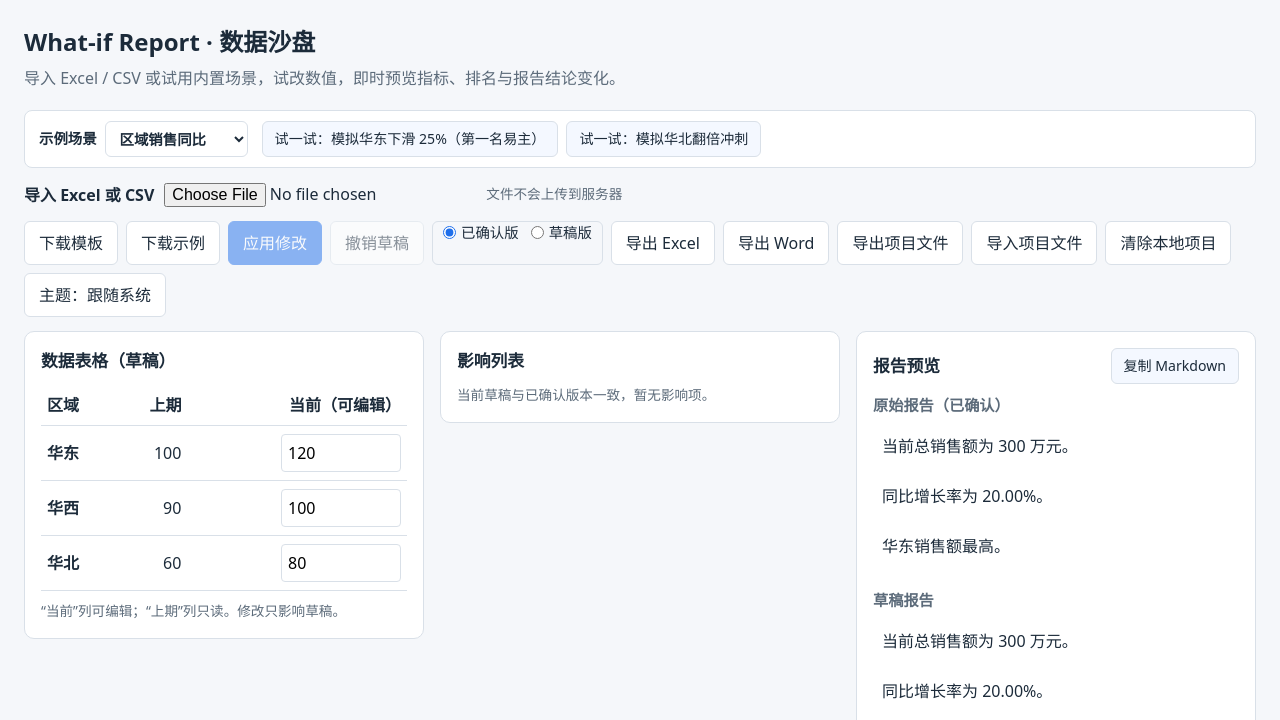
Test: DemoBar and Markdown copy › copies formatted Markdown report to the clipboard
Click the button "复制 Markdown" at (1175,366), box [1110, 348, 1239, 384]
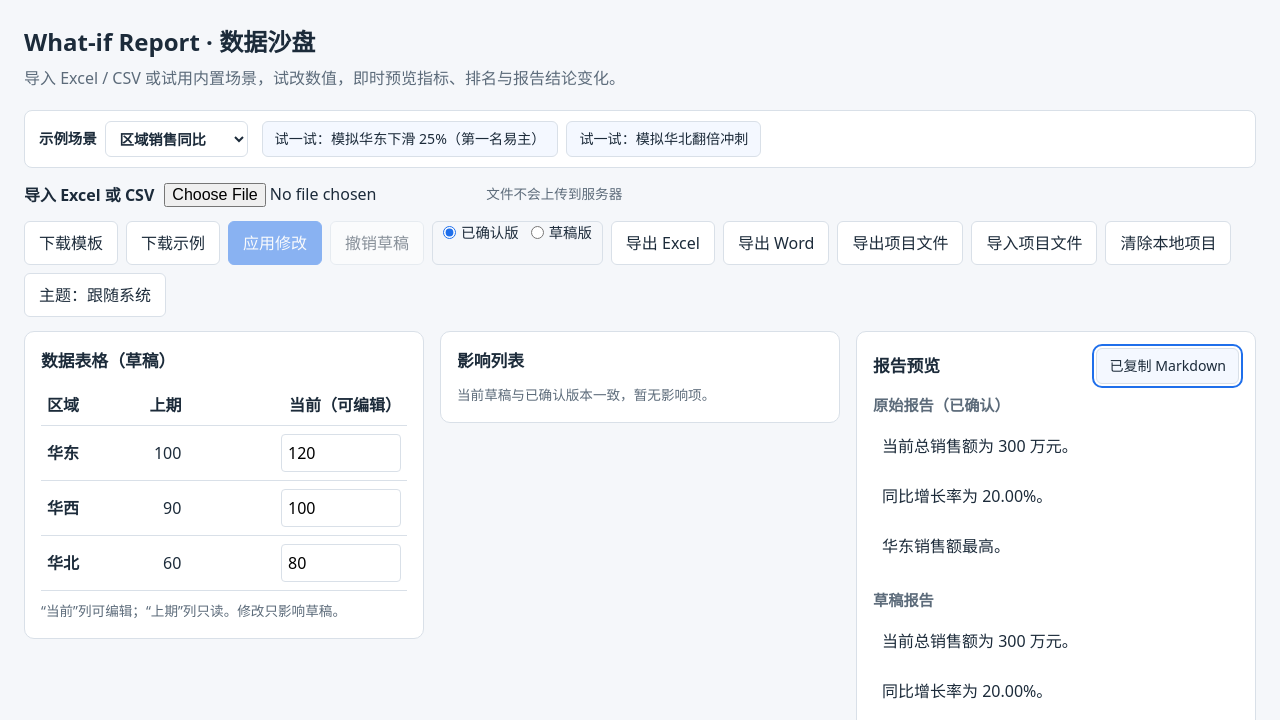
Check: the button "已复制 Markdown" is shown, box [1096, 348, 1239, 384]
